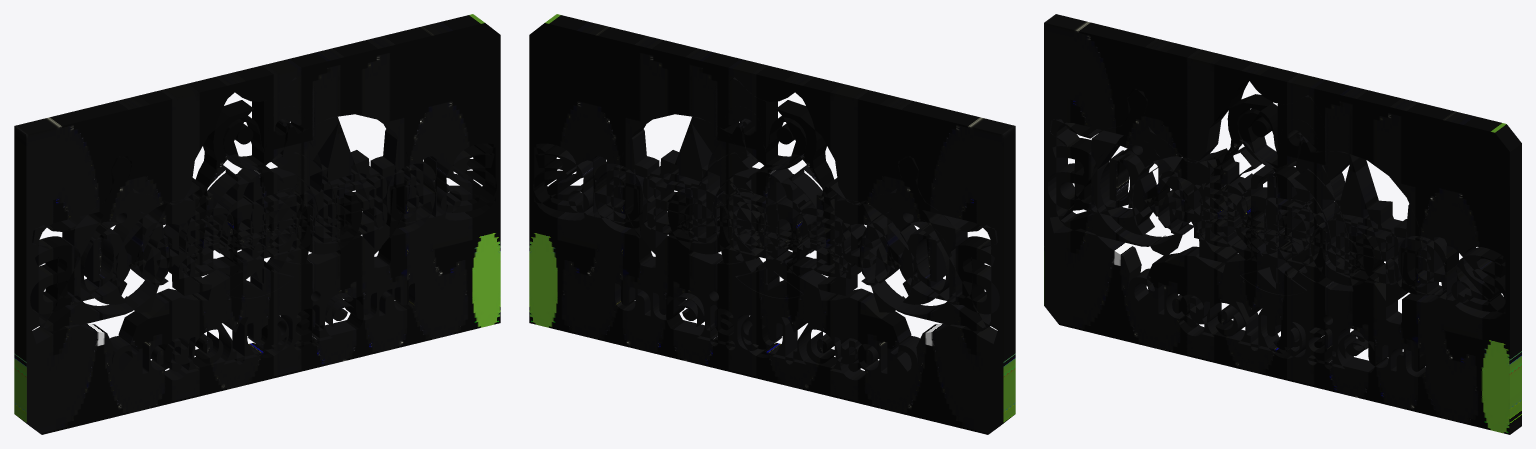
File: deloitte-consulting-llp.glb
3 renders of one model, left to right at view 1: azimuth 30°, elevation 25°; view 2: azimuth 150°, elevation 25°; view 3: azimuth 330°, elevation 25°, orthographic.
Visible parts, largest first — view 1: Curve; view 2: Curve; view 3: Curve.
Part boxes in pixels (x1,y1,x2,y2): Curve: (14, 14, 500, 434); Curve: (529, 14, 1015, 434); Curve: (1044, 14, 1521, 434).
Bounding box in the file's own units: 0.1129 × 0.0691 × 0.01.
1 material, 1 textured.
